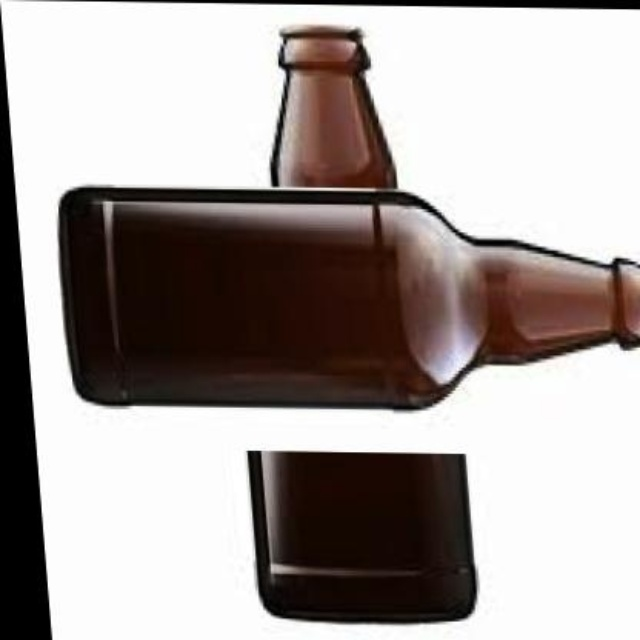trash: (60, 188, 638, 406), (249, 452, 474, 620)
